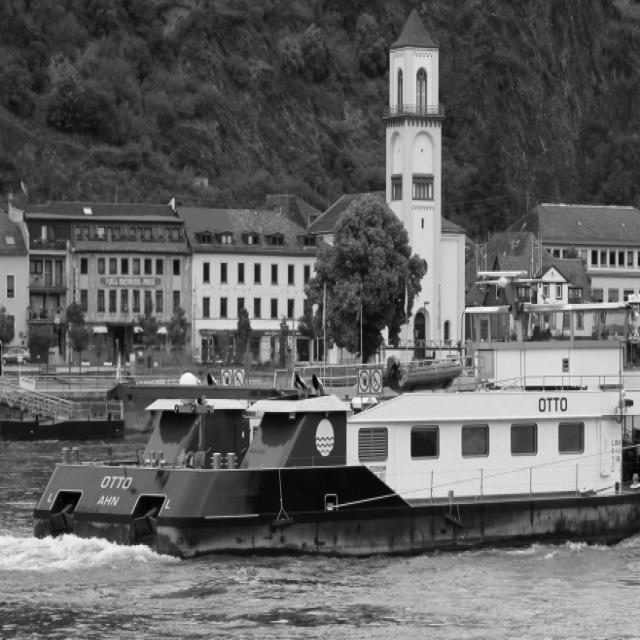tugboat: (31, 264, 640, 581)
